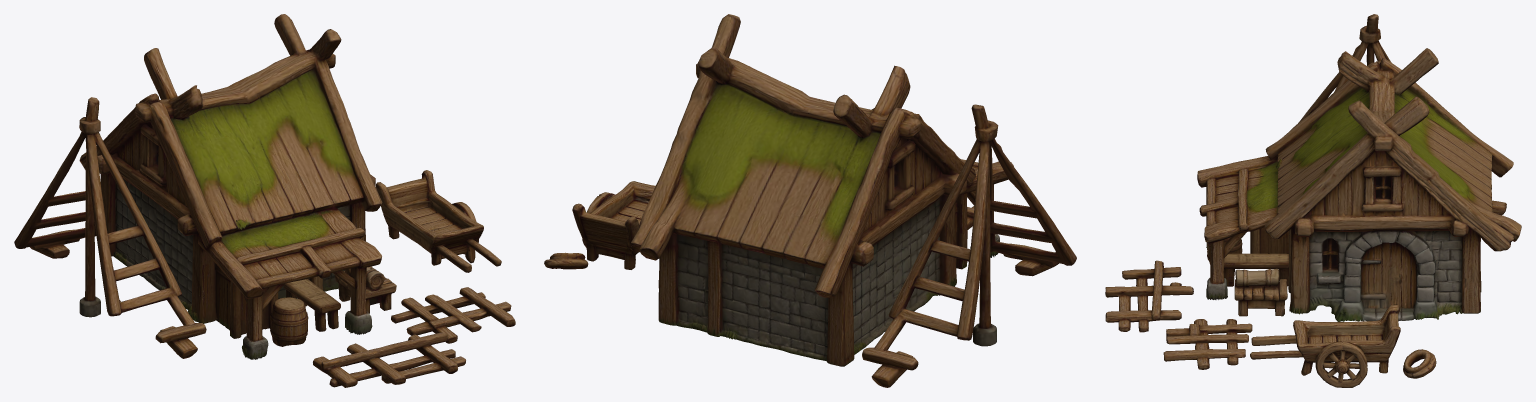
File: tripo_convert_fcb3b83c-4f1f-4597-acf1-5f108d25ae7f.fbx
The picture shows the model from 3 angles, left to right: view 1: azimuth 30°, elevation 25°; view 2: azimuth 150°, elevation 25°; view 3: azimuth 270°, elevation 25°; orthographic projection. The views are drawn at different scales.
Visible parts, largest first — view 1: tripo_node_fcb3b83c; view 2: tripo_node_fcb3b83c; view 3: tripo_node_fcb3b83c.
Boxes of the visible parts, x1,y1,x2,y2 form: tripo_node_fcb3b83c: (14,14,515,387); tripo_node_fcb3b83c: (544,14,1076,387); tripo_node_fcb3b83c: (1105,14,1521,387).
Size of the model in its own units: 0.9791 by 0.5785 by 0.9511.
Materials: 1 (1 with a texture image).
